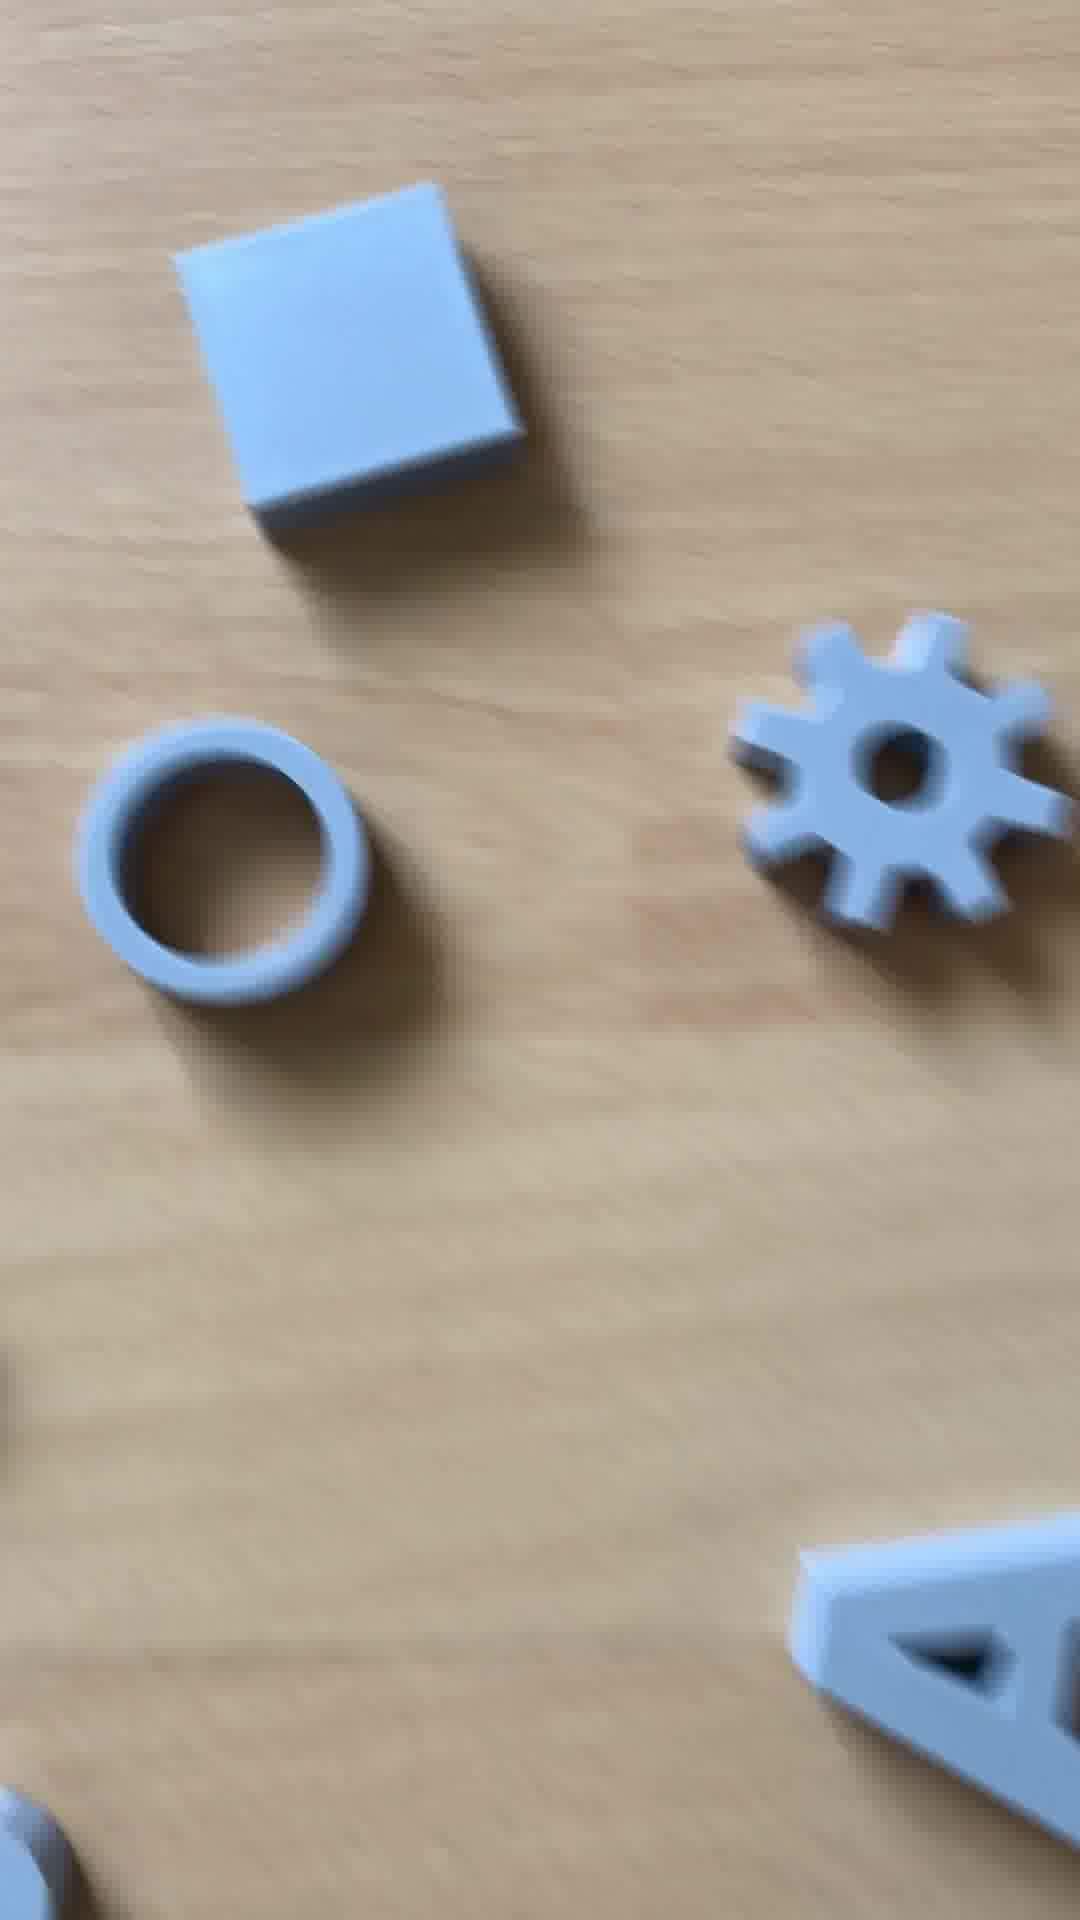Gray A-letter: (796, 1520, 1080, 1884)
Gray gear: (705, 615, 1054, 951)
Gray ring: (57, 705, 388, 1025)
Gray square: (170, 179, 524, 556)
